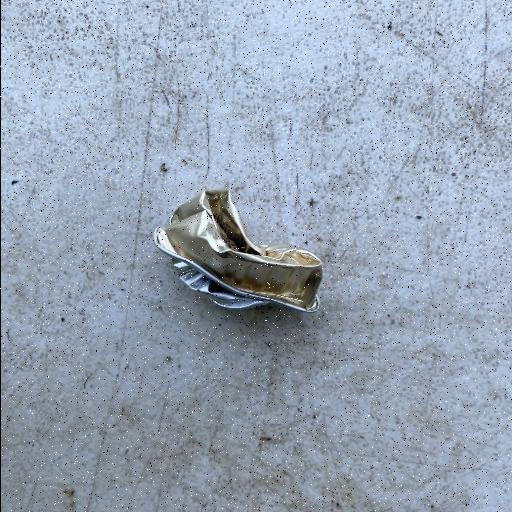Metal: (152, 186, 324, 314)
